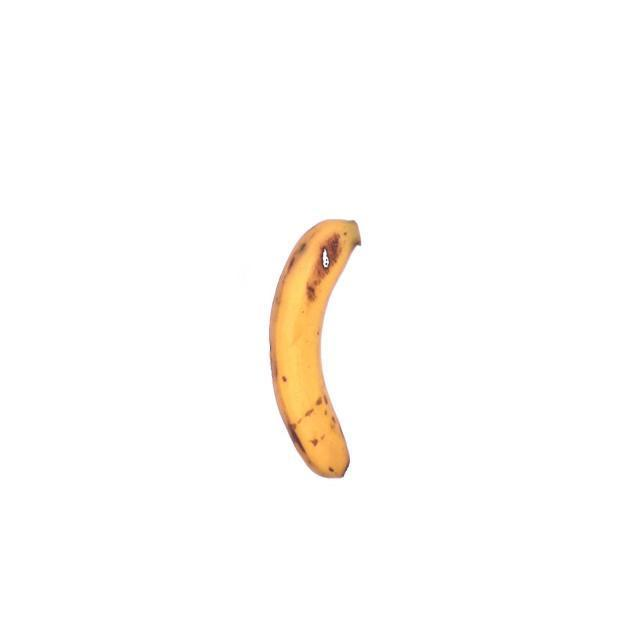Banana: (272, 216, 362, 484)
